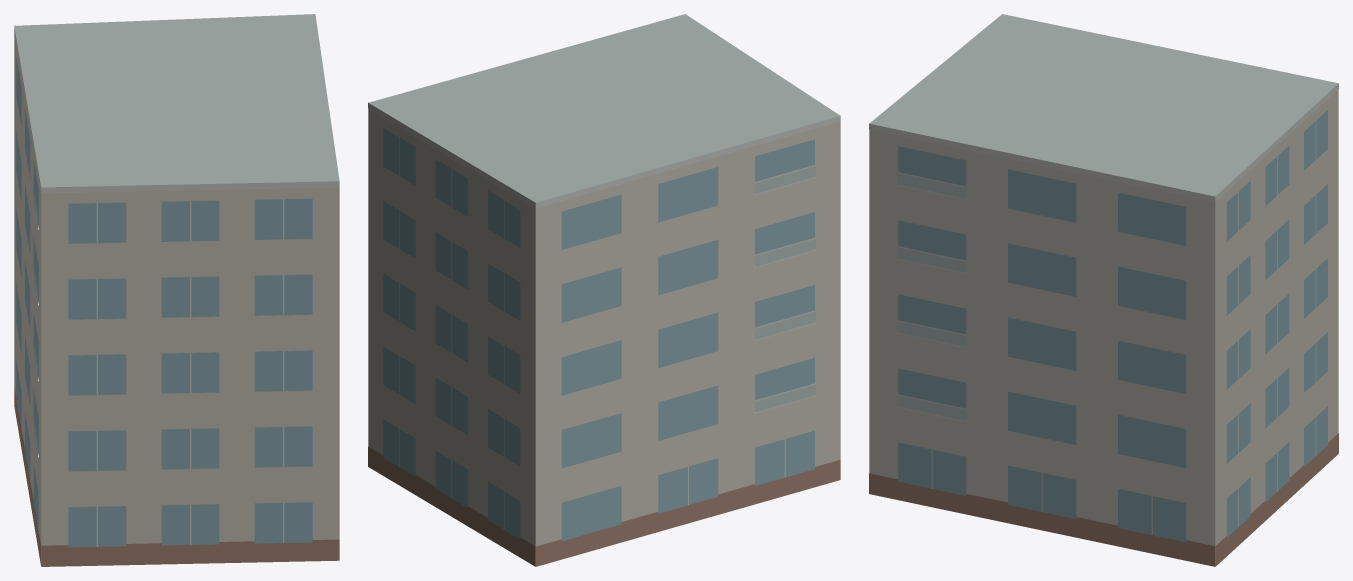
Rendered from survey-upis-32842961.glb.
3 renders of one model, left to right at view 1: azimuth 30°, elevation 25°; view 2: azimuth 150°, elevation 25°; view 3: azimuth 270°, elevation 25°, orthographic. The views are drawn at different scales.
Parts seen in each view (by area): view 1: survey-upis-32842961.tmp; view 2: survey-upis-32842961.tmp; view 3: survey-upis-32842961.tmp.
Part boxes in pixels (x1,y1,x2,y2): survey-upis-32842961.tmp: (14,14,339,566); survey-upis-32842961.tmp: (368,14,840,566); survey-upis-32842961.tmp: (869,14,1338,566).
Bounding box in the file's own units: 16.5 × 15.6 × 17.94.
